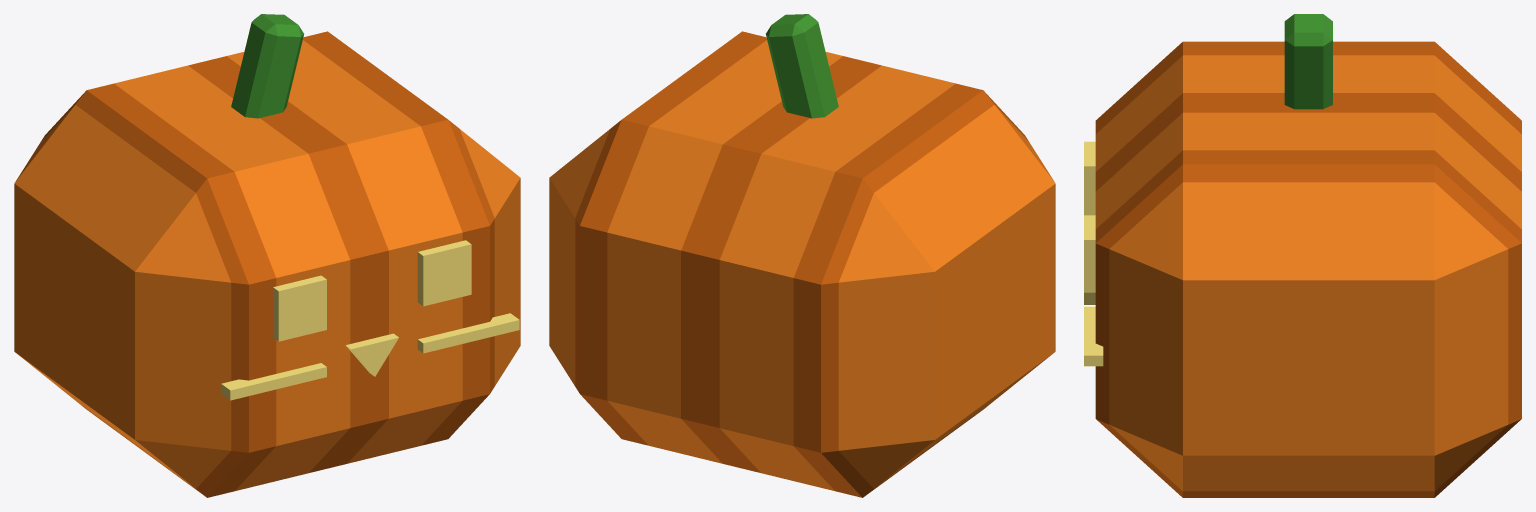
Rendered from CatPumpkin.fbx.
3 renders of one model, left to right at view 1: azimuth 30°, elevation 25°; view 2: azimuth 150°, elevation 25°; view 3: azimuth 270°, elevation 25°, orthographic. The views are drawn at different scales.
Parts seen in each view (by area): view 1: CatPumpkin; view 2: CatPumpkin; view 3: CatPumpkin.
Boxes of the visible parts, x1,y1,x2,y2 form: CatPumpkin: (14,14,520,497); CatPumpkin: (549,14,1055,497); CatPumpkin: (1084,14,1521,497).
Size of the model in its own units: 2.4 by 2.41 by 2.26.
Materials: 1 (1 with a texture image).
